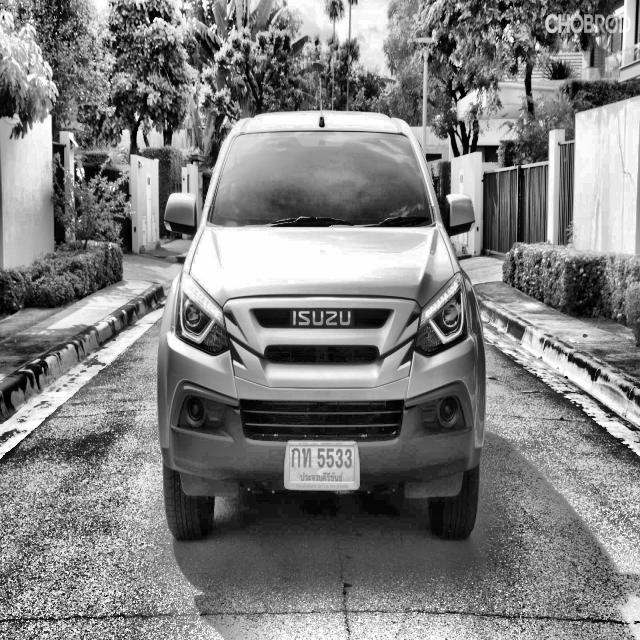license-plate: (283, 438, 361, 492)
